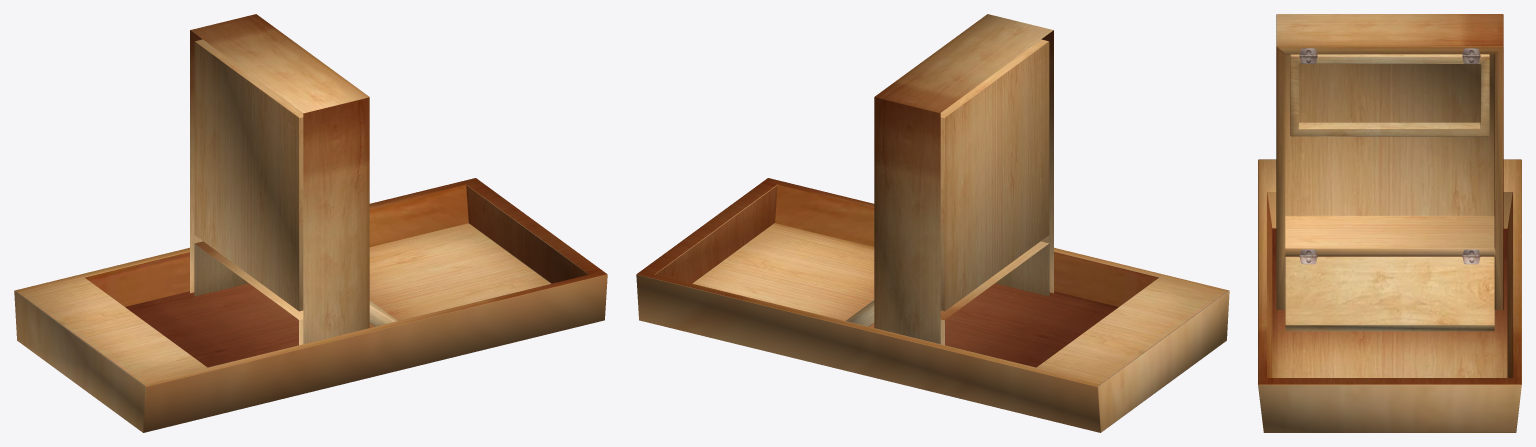
Rendered from wood box.glb.
3 views of the same model, side by side, from view 1: azimuth 30°, elevation 25°; view 2: azimuth 150°, elevation 25°; view 3: azimuth 270°, elevation 25° (orthographic).
Visible parts, largest first — view 1: box bot, box top; view 2: box bot, box top; view 3: box top, box bot, box dice.001, box dice, Cube.003, Cube.002, Cube.001.
Part boxes in pixels (left/top/right/bottom): box bot: left=14, top=178, right=607, bottom=432; box top: left=190, top=14, right=369, bottom=345; box bot: left=636, top=178, right=1229, bottom=432; box top: left=874, top=14, right=1053, bottom=345; box top: left=1276, top=14, right=1503, bottom=309; box bot: left=1258, top=159, right=1521, bottom=432; box dice.001: left=1285, top=256, right=1494, bottom=331; box dice: left=1290, top=54, right=1489, bottom=136; Cube.003: left=1299, top=256, right=1480, bottom=264; Cube.002: left=1300, top=56, right=1479, bottom=63; Cube.001: left=1300, top=48, right=1479, bottom=55.
Bounding box in the file's own units: 2.17 × 1.24 × 1.08.
1 material, 1 textured.
